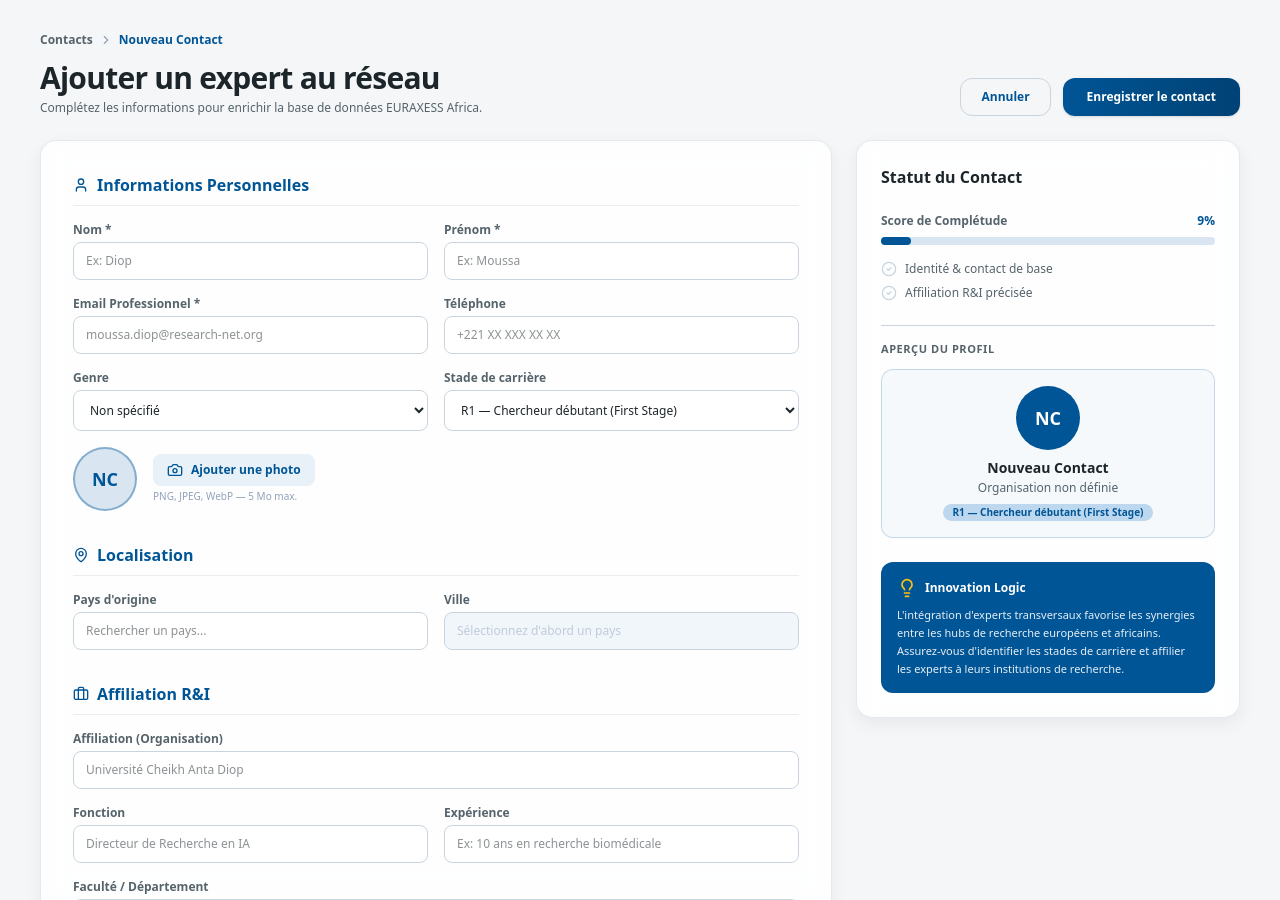
NewContactView › clears field error on typing into that field
The image size is (1280, 900).
Step 1. Click the button "Enregistrer le contact" → coordinates (1151, 97), box [1063, 78, 1240, 116]
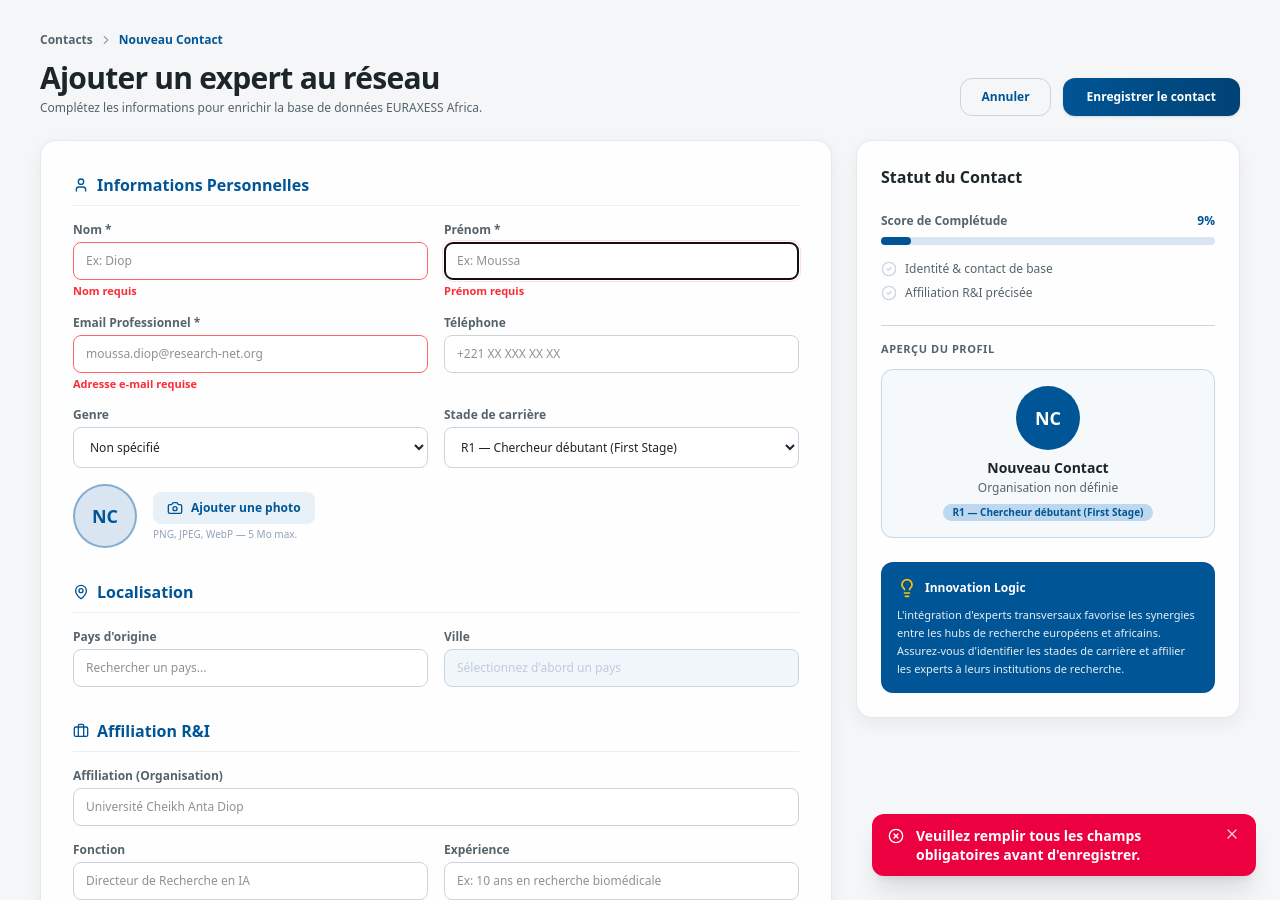
Check: the text "Prénom requis" is shown, box [444, 283, 524, 298]
Step 2. Type "A" into the field labelled "Prénom *" → coordinates (622, 261), box [444, 242, 799, 280]
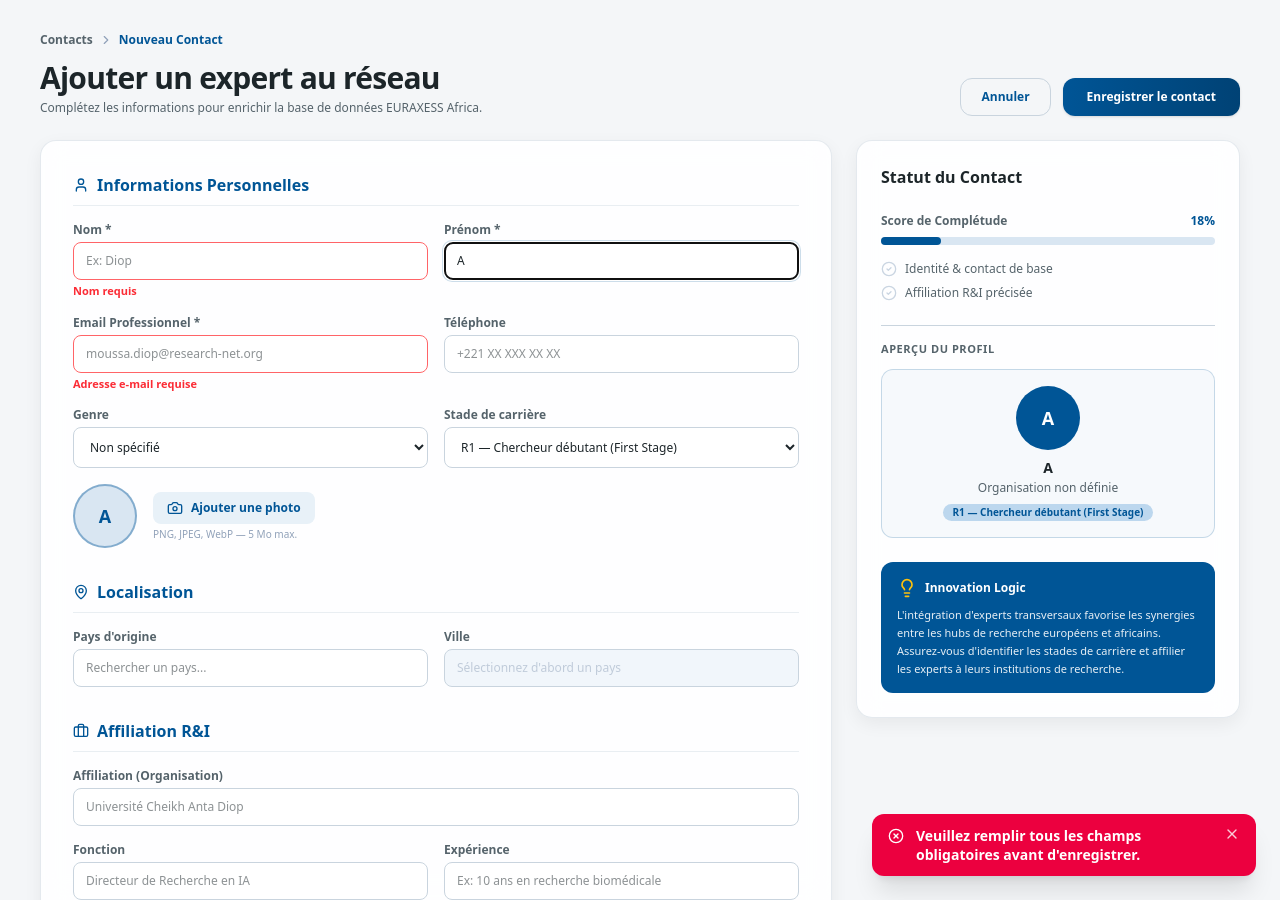
Check: the text "Prénom requis" is gone
